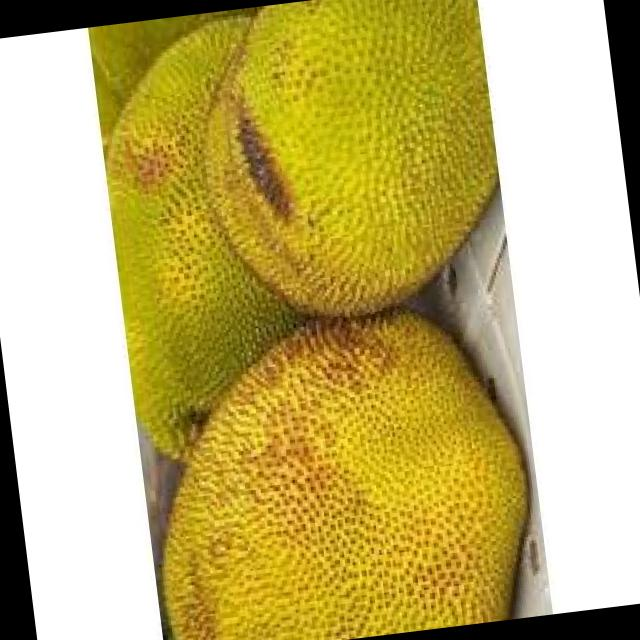Fruit: (119, 259, 555, 640), (189, 0, 513, 350)
